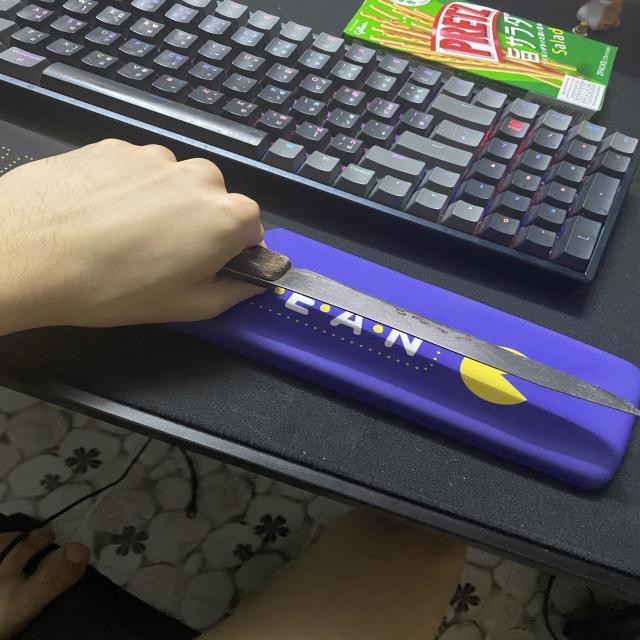faca: (23, 142, 640, 432)
